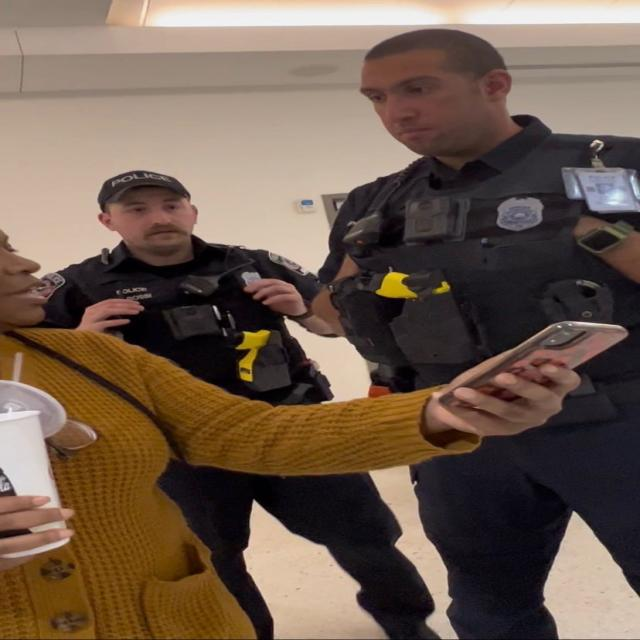police: (358, 0, 640, 639), (13, 161, 354, 422)
